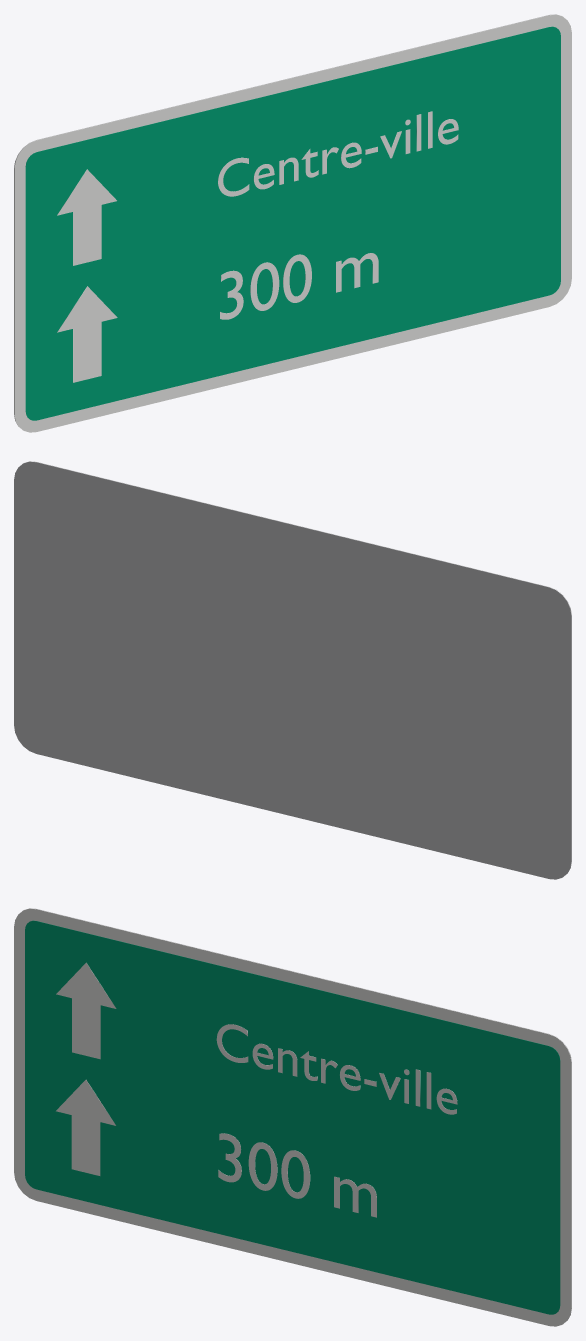
3 views of the same model, one above another, from view 1: azimuth 30°, elevation 25°; view 2: azimuth 150°, elevation 25°; view 3: azimuth 330°, elevation 25° (orthographic).
Parts seen in each view (by area): view 1: Dp1b_fond01, Dp1b_cadre00, Dp1b_txt03, Dp1b_fl02, Dp1b_fl04, Dp1b_txt05, Dp1b_dos; view 2: Dp1b_dos; view 3: Dp1b_fond01, Dp1b_cadre00, Dp1b_txt03, Dp1b_fl04, Dp1b_fl02, Dp1b_txt05, Dp1b_dos.
Boxes of the visible parts, x1=… form: Dp1b_fond01: x1=25, y1=26, x2=560, y2=420; Dp1b_cadre00: x1=14, y1=14, x2=571, y2=432; Dp1b_txt03: x1=218, y1=111, x2=458, y2=196; Dp1b_fl02: x1=57, y1=169, x2=116, y2=265; Dp1b_fl04: x1=57, y1=286, x2=117, y2=382; Dp1b_txt05: x1=220, y1=253, x2=378, y2=319; Dp1b_dos: x1=14, y1=14, x2=559, y2=426; Dp1b_dos: x1=14, y1=461, x2=571, y2=879; Dp1b_fond01: x1=25, y1=920, x2=560, y2=1314; Dp1b_cadre00: x1=14, y1=908, x2=571, y2=1326; Dp1b_txt03: x1=216, y1=1024, x2=457, y2=1114; Dp1b_fl04: x1=56, y1=1079, x2=115, y2=1175; Dp1b_fl02: x1=56, y1=962, x2=116, y2=1059; Dp1b_txt05: x1=218, y1=1133, x2=376, y2=1217; Dp1b_dos: x1=26, y1=908, x2=571, y2=1320.
Bounding box in the file's own units: 1 × 0.5 × 0.0037.
